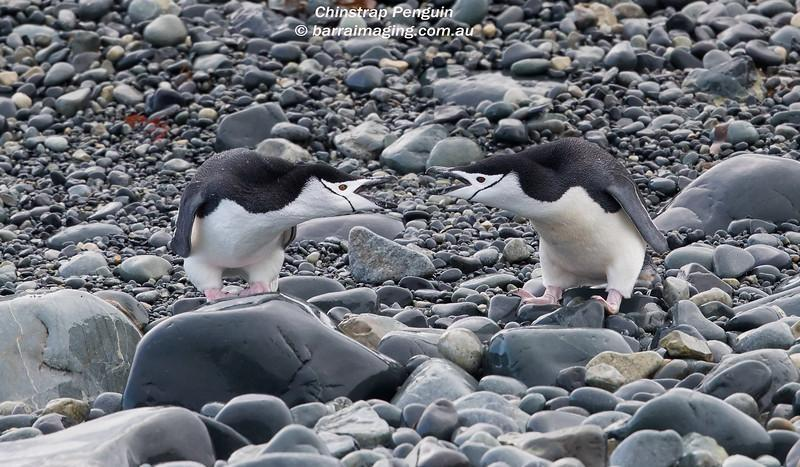Penguin: (425, 138, 667, 314), (170, 148, 391, 301)
